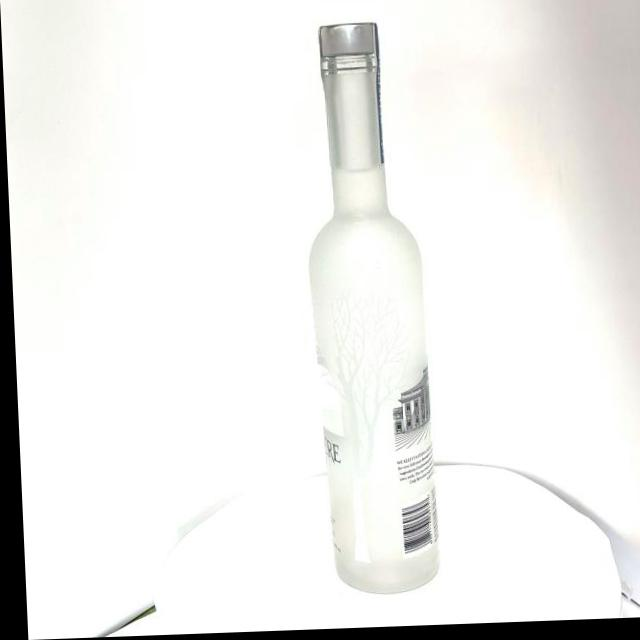BELVEDERE VODKA 375ML: (283, 12, 447, 605)
